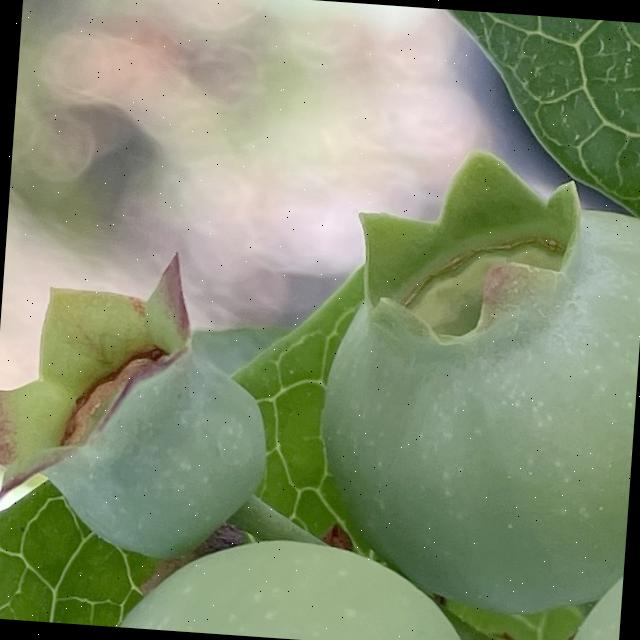Blueberries: (283, 131, 640, 627), (52, 519, 522, 640)
